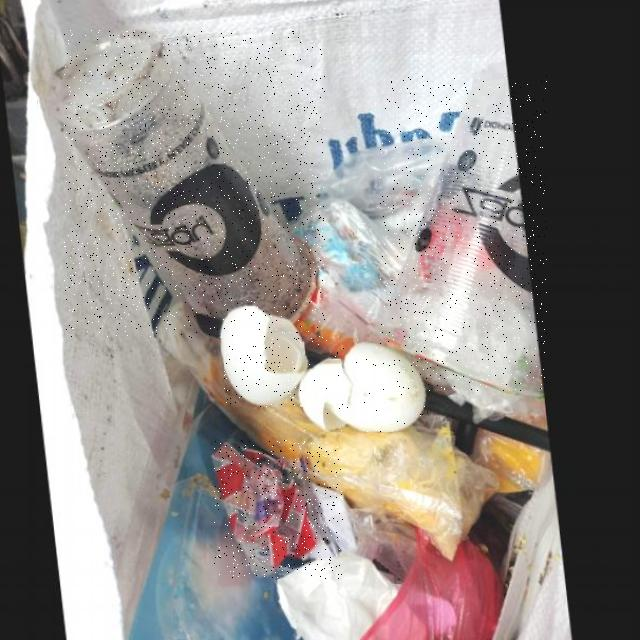biowaste: (303, 340, 431, 431), (225, 305, 314, 406)
plastic: (65, 30, 325, 337), (380, 75, 547, 390)
wrapper: (214, 440, 343, 578)
